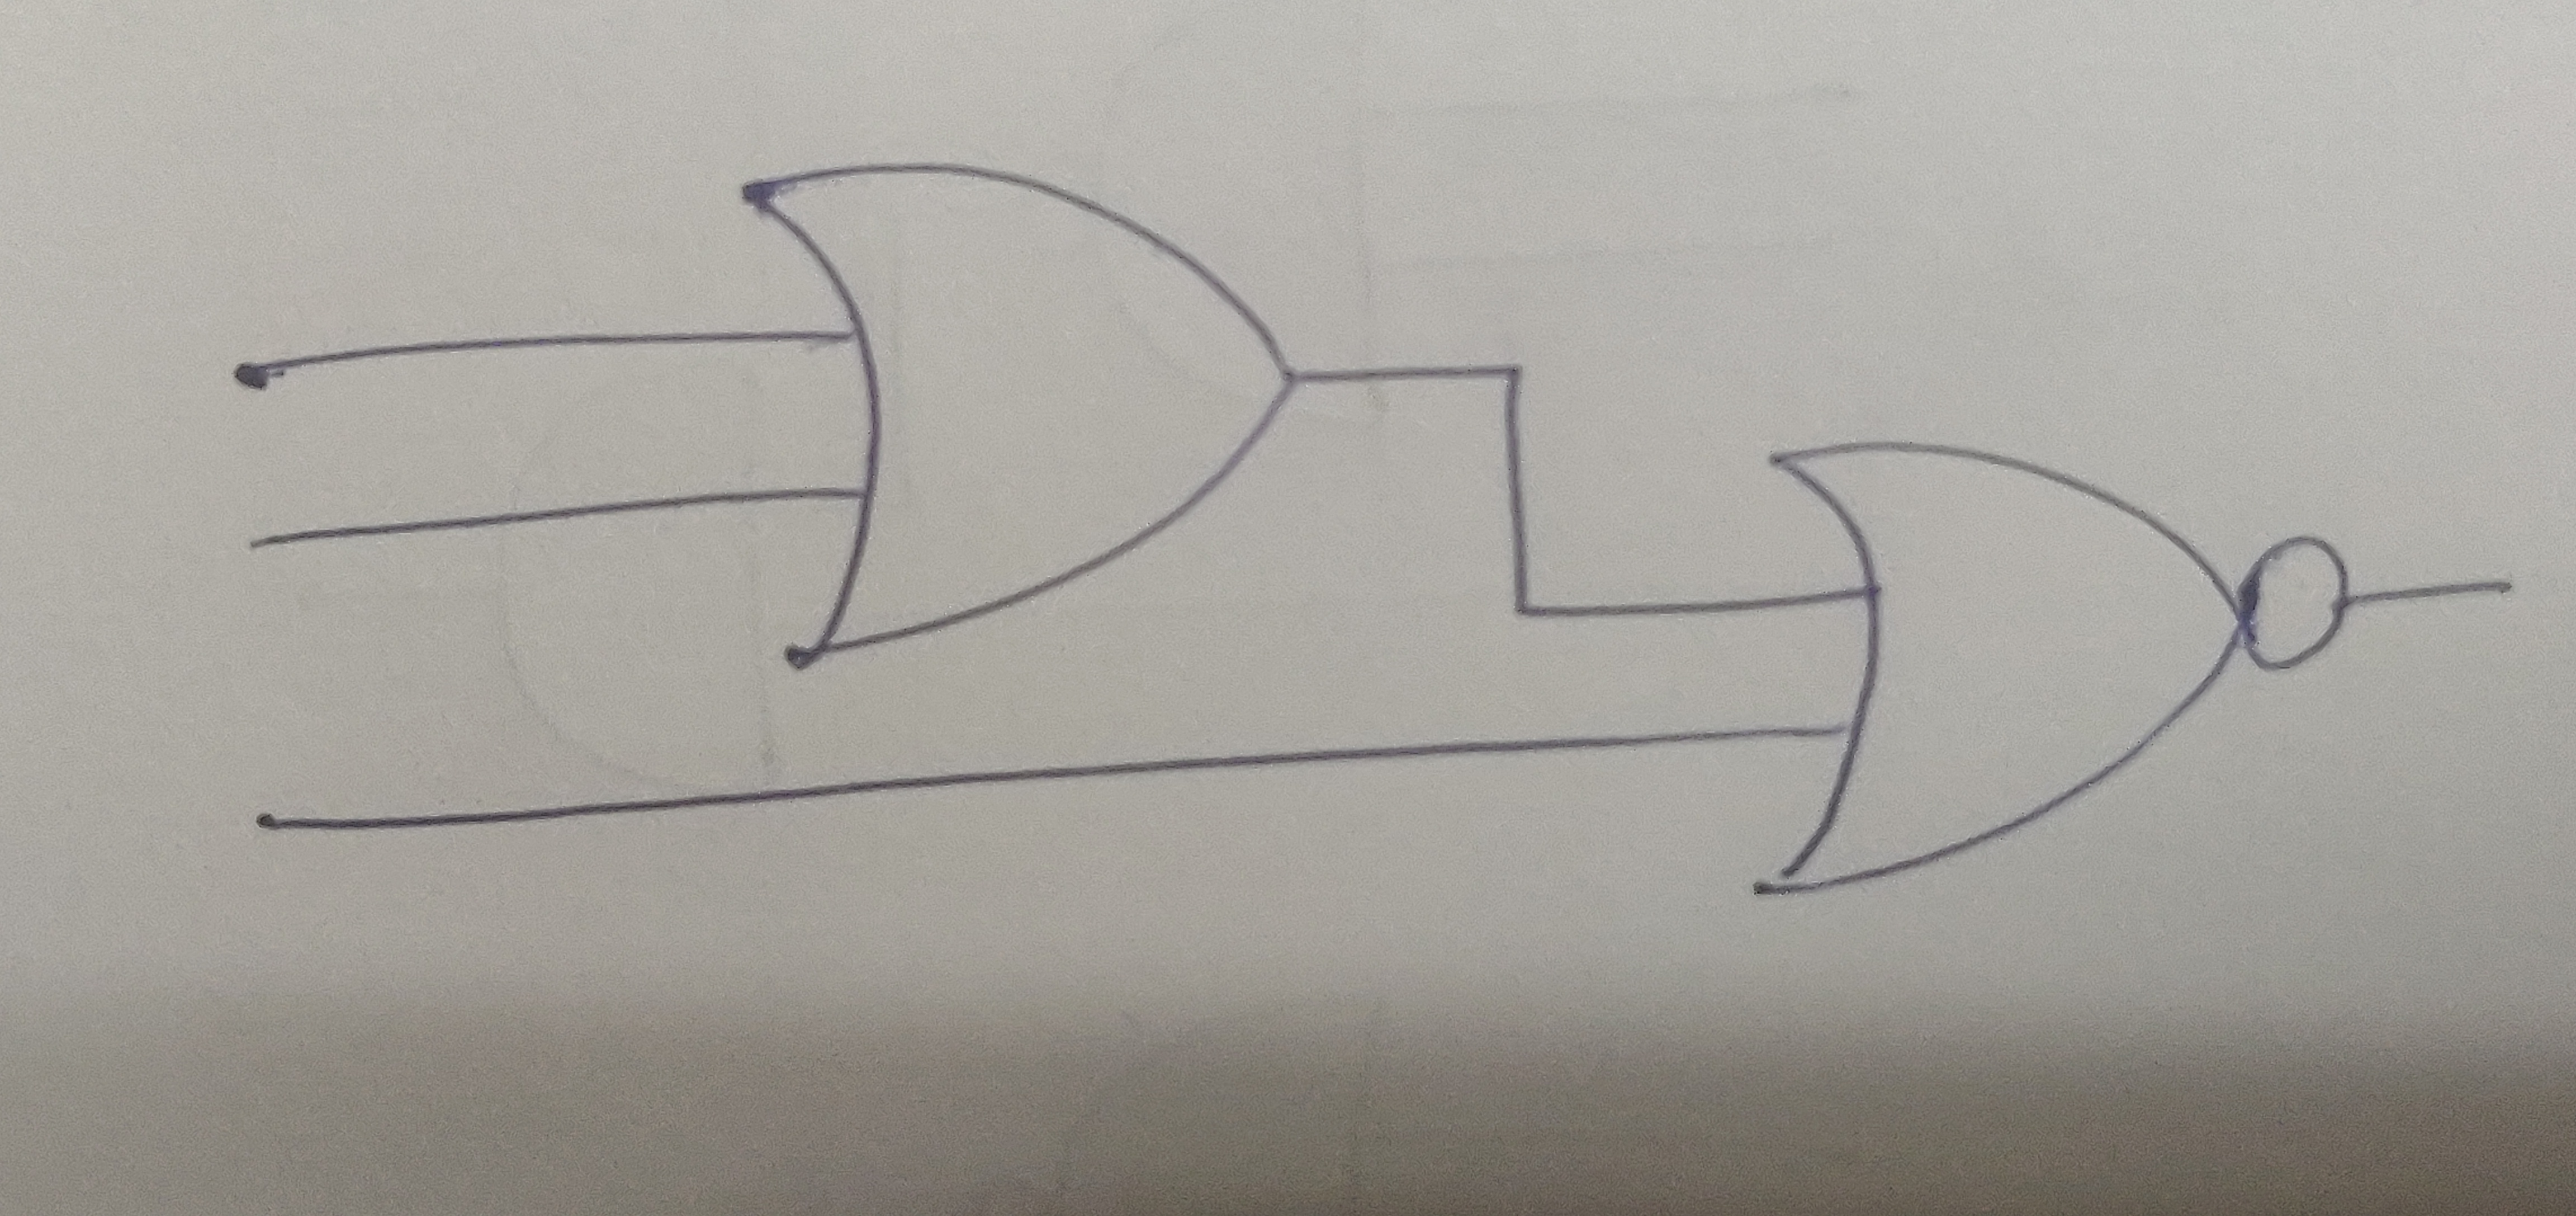not: (2238, 536, 2356, 684)
or: (739, 158, 1304, 667), (1748, 434, 2251, 904)
